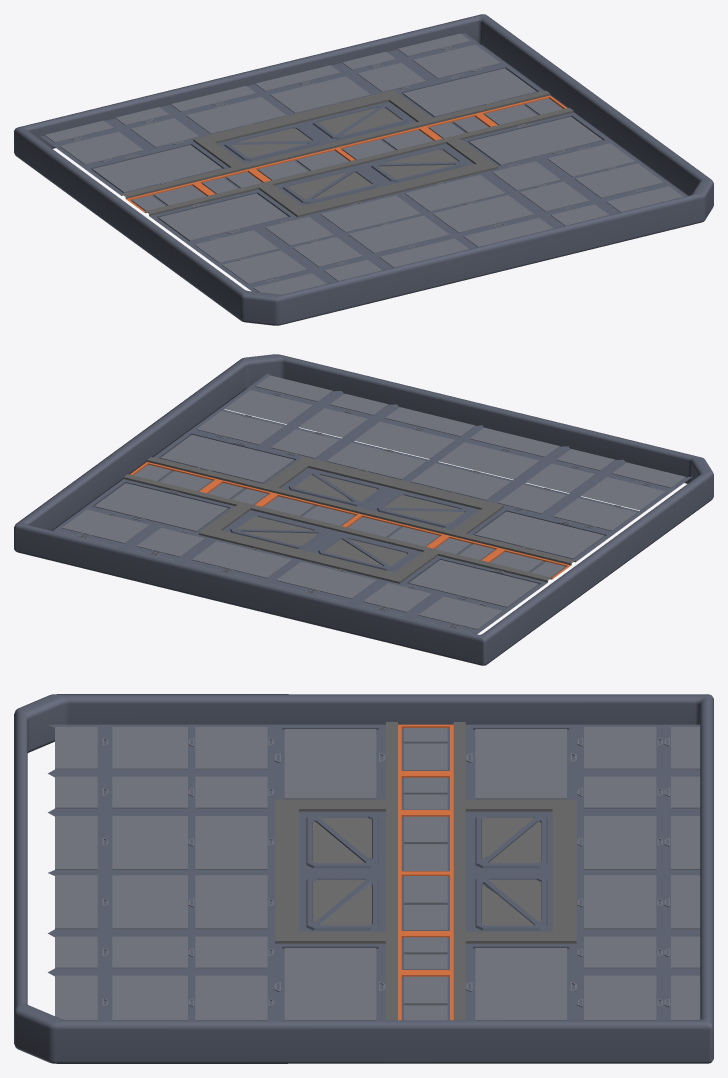
Rendered from Ground.fbx.
3 renders of one model, top to bottom at view 1: azimuth 30°, elevation 25°; view 2: azimuth 150°, elevation 25°; view 3: azimuth 270°, elevation 25°, orthographic. The views are drawn at different scales.
Visible parts, largest first — view 1: Ground; view 2: Ground; view 3: Ground.
Boxes of the visible parts, x1,y1,x2,y2 form: Ground: (14,14,713,325); Ground: (14,354,713,665); Ground: (14,694,713,1063).
Bounding box in the file's own units: 6411 × 366 × 5696.
